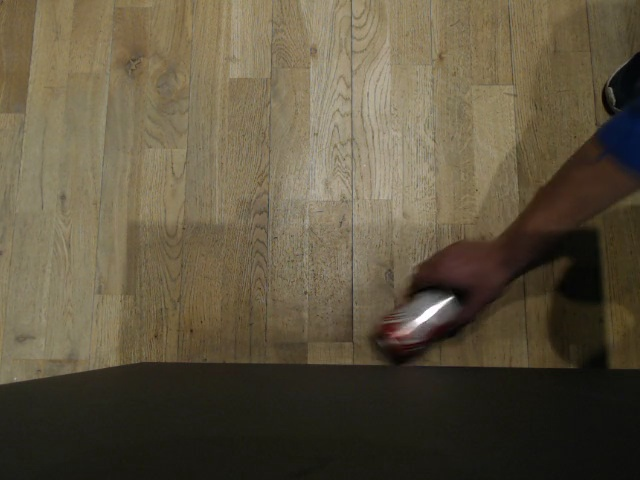cola: (371, 282, 462, 363)
